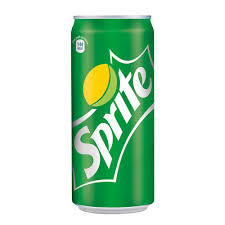Soda Can: (66, 9, 160, 219)
